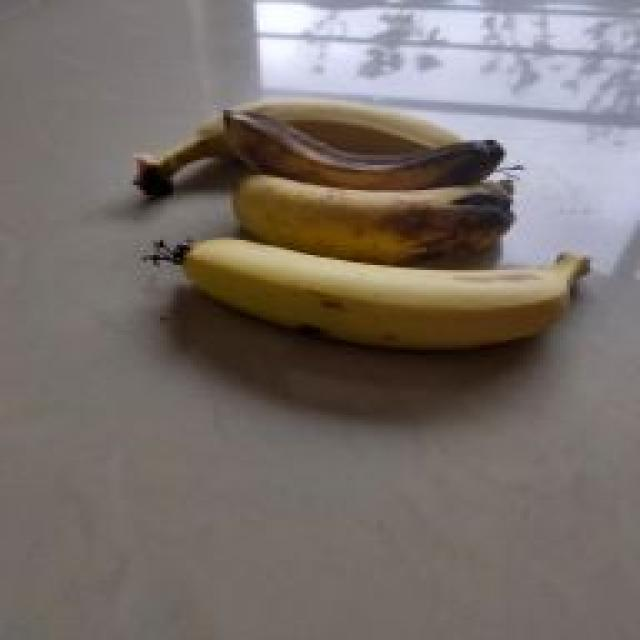Wet: (224, 165, 524, 263), (210, 105, 507, 187)
